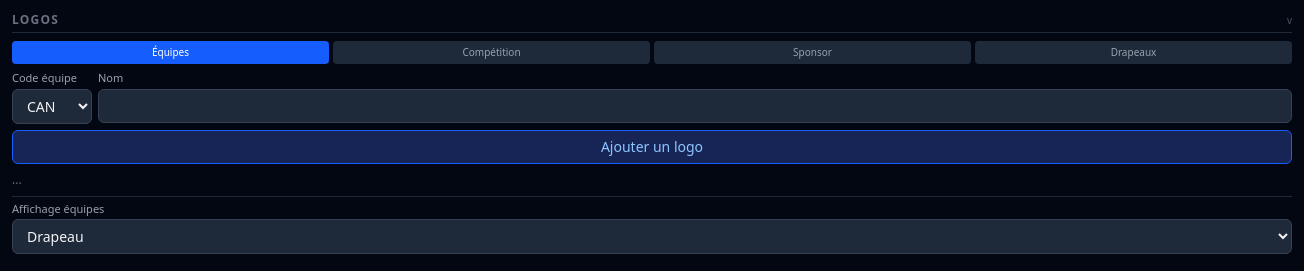
Test: LogoSection › change d'onglet au clic sur Compétition
This screenshot has width=1304, height=271.
Click the button "Compétition".
click(492, 52)  # box left=333, top=41, right=650, bottom=64
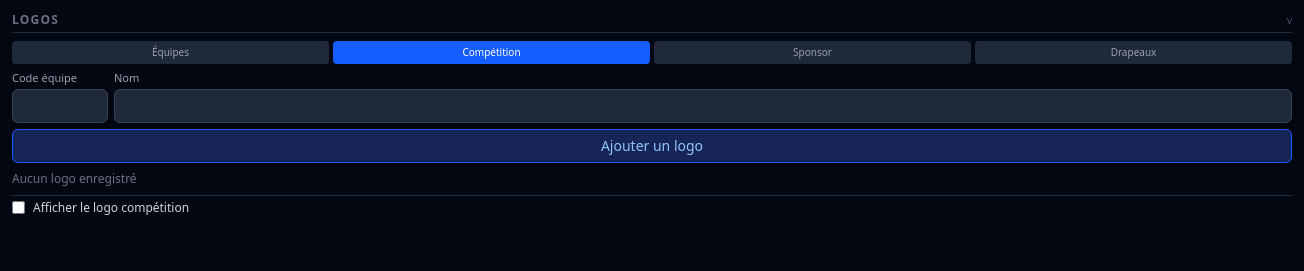
Expected: the text "Afficher le logo compétition" is shown, left=12, top=198, right=189, bottom=216
